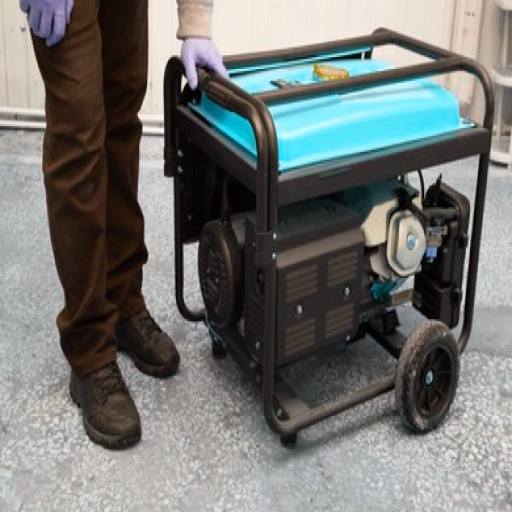portable_generator: (166, 26, 497, 433)
